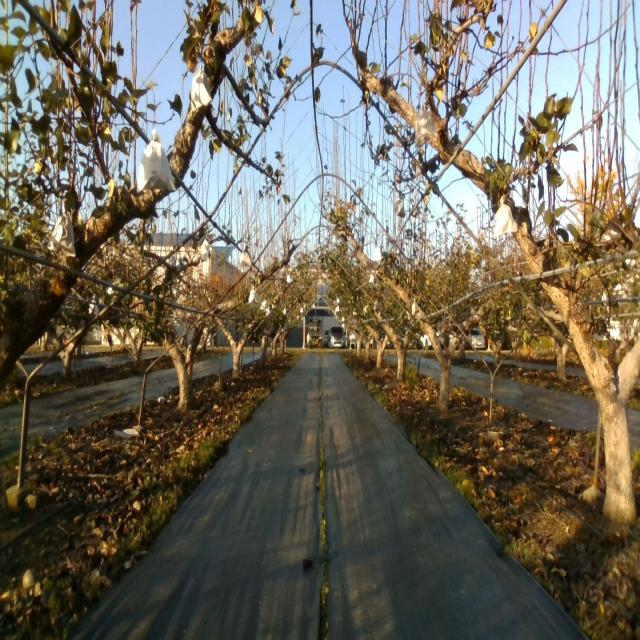pearbags: (135, 130, 177, 193), (46, 212, 76, 259), (414, 108, 438, 149), (191, 65, 212, 110), (494, 196, 517, 236), (394, 198, 405, 218)
